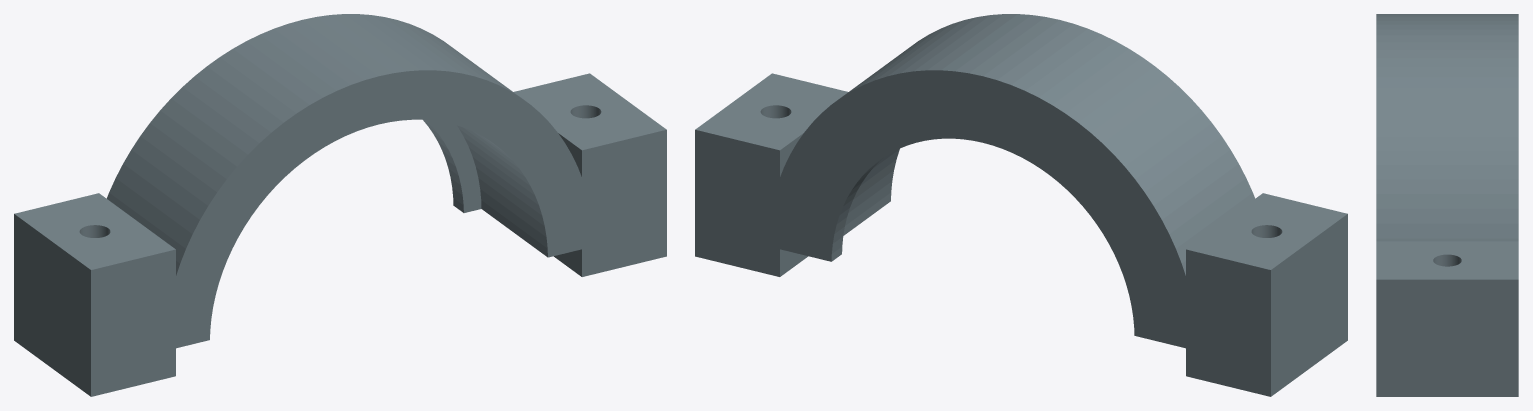
File: est_collar_cuello.glb
The picture shows the model from 3 angles, left to right: view 1: azimuth 30°, elevation 25°; view 2: azimuth 150°, elevation 25°; view 3: azimuth 270°, elevation 25°; orthographic projection. The views are drawn at different scales.
Visible parts, largest first — view 1: world; view 2: world; view 3: world.
Boxes of the visible parts, bbox=[...] form: world: bbox=[14, 14, 666, 396]; world: bbox=[695, 14, 1347, 396]; world: bbox=[1376, 14, 1518, 396].
Bounding box in the file's own units: 95 × 39.5 × 22.
